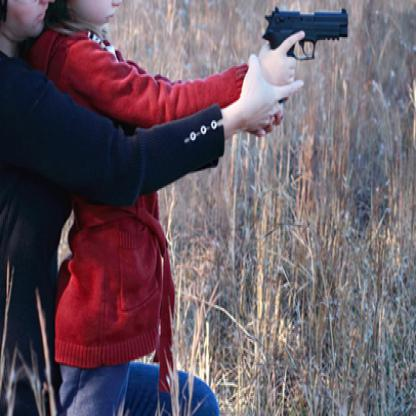gun: (250, 0, 358, 93)
